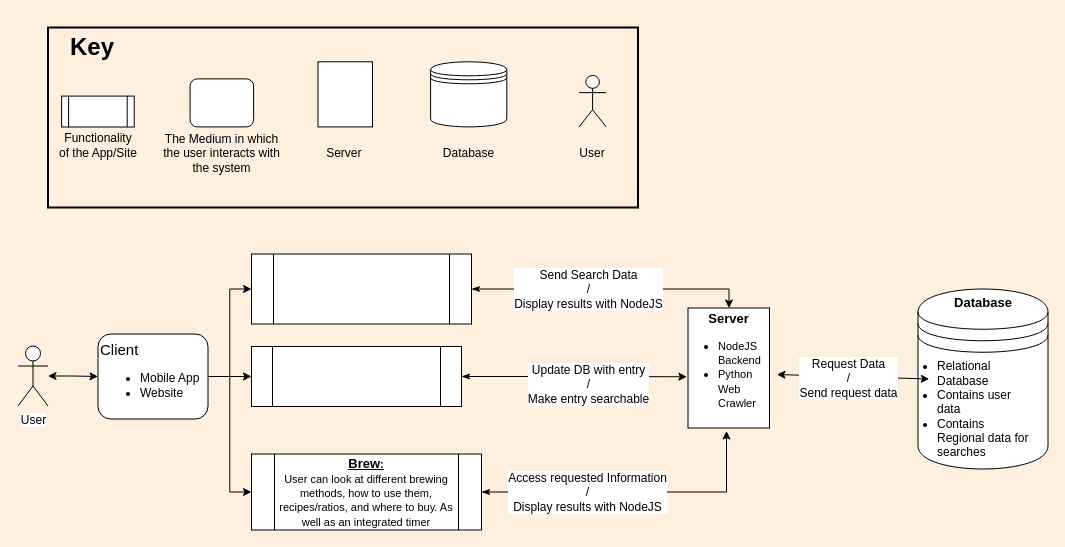
This 1065x547 diagram has some shape labels left out. The centre of each missing label's shape, as x and y in pixels:
"Find: User can search based off of zip code entered fro roasters in the area" goes at point 361,288.
"Taste: User can document various attributes about the coffee inside a log" goes at point 356,376.
